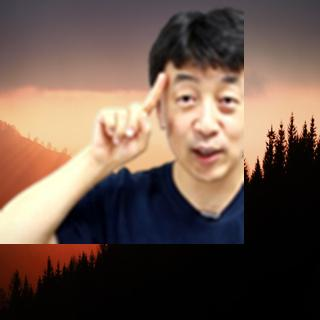IRRITATED: (88, 67, 171, 170)
